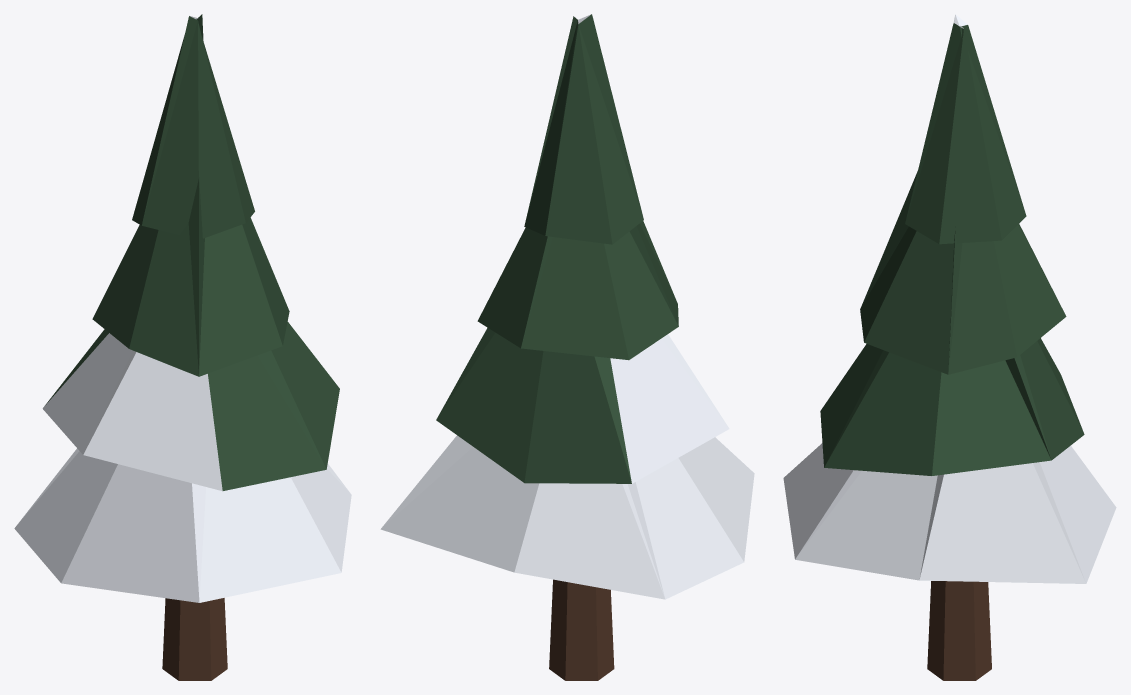
File: fir-1.glb
3 views of the same model, side by side, from view 1: azimuth 30°, elevation 25°; view 2: azimuth 150°, elevation 25°; view 3: azimuth 270°, elevation 25° (orthographic).
Visible parts, largest first — view 1: fir-1; view 2: fir-1; view 3: fir-1.
Boxes of the visible parts, bbox=[...] form: fir-1: bbox=[14, 14, 351, 680]; fir-1: bbox=[380, 14, 754, 680]; fir-1: bbox=[783, 14, 1116, 680].
Bounding box in the file's own units: 1.82 × 3.99 × 1.85.
